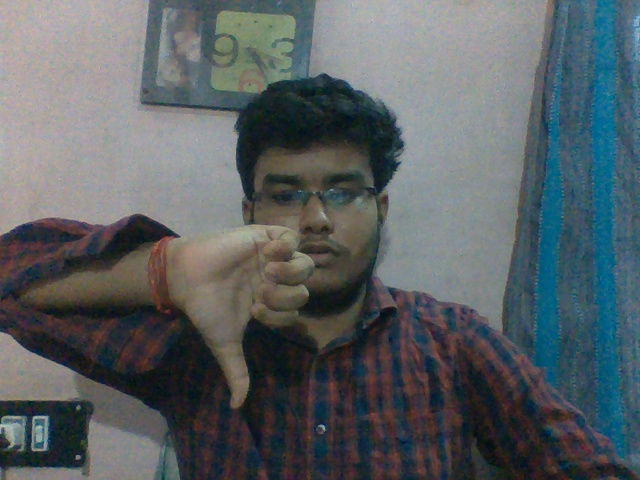ThumbsDown: (170, 223, 317, 413)
